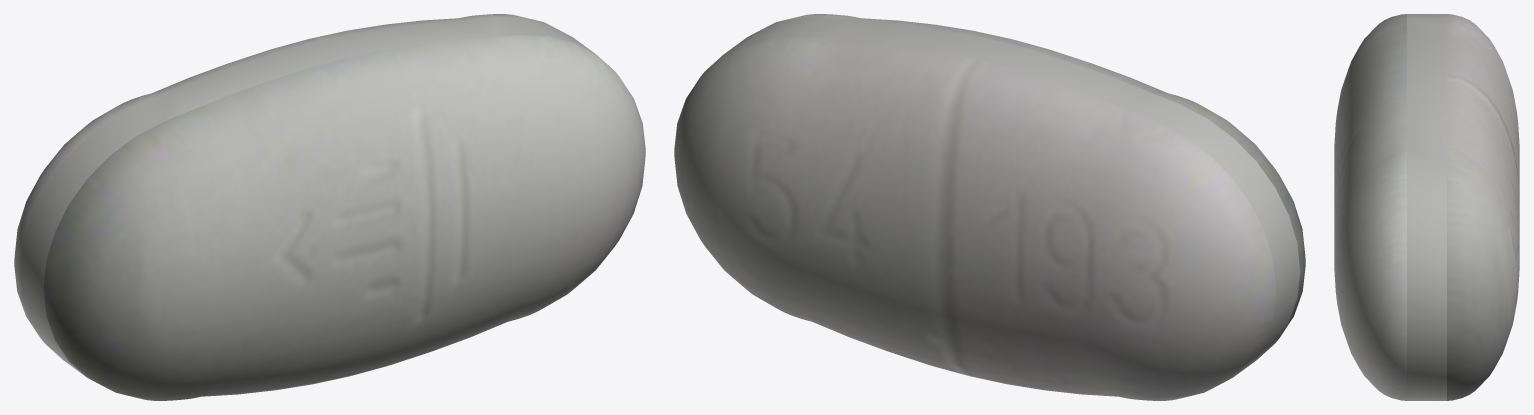
Rendered from 20140311GOPHDRGPT01907.fbx.
3 renders of one model, left to right at view 1: azimuth 30°, elevation 25°; view 2: azimuth 150°, elevation 25°; view 3: azimuth 270°, elevation 25°, orthographic. The views are drawn at different scales.
Parts seen in each view (by area): view 1: 球體.005; view 2: 球體.005; view 3: 球體.005.
Part boxes in pixels (x1=…): 球體.005: x1=14, y1=14, x2=645, y2=400; 球體.005: x1=674, y1=14, x2=1305, y2=400; 球體.005: x1=1334, y1=14, x2=1519, y2=400.
Size of the model in its own units: 1.89 by 0.9501 by 0.6064.
